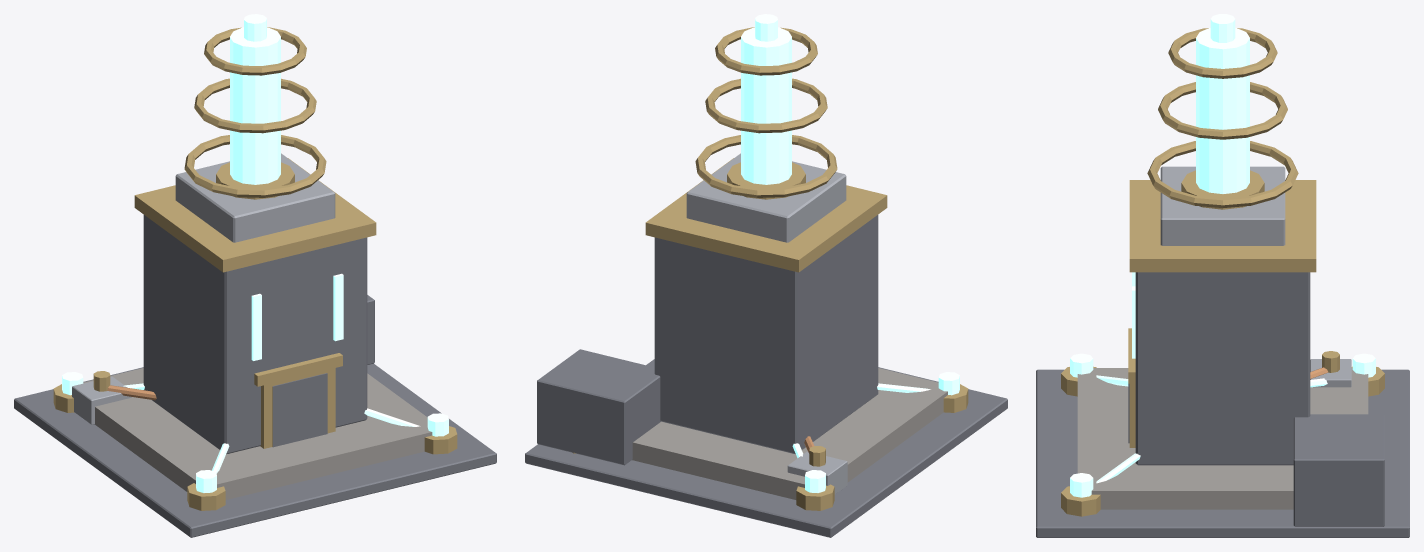
The model's file is gearforge_aether_well.glb.
3 views of the same model, side by side, from view 1: azimuth 30°, elevation 25°; view 2: azimuth 150°, elevation 25°; view 3: azimuth 270°, elevation 25° (orthographic). The views are drawn at different scales.
Parts seen in each view (by area): view 1: gearforge_aether_well_dark_iron_lod0, gearforge_aether_well_brass_lod0, gearforge_aether_well_stone_lod0, gearforge_aether_well_aether_glow_lod0, gearforge_aether_well_steel_lod0; view 2: gearforge_aether_well_dark_iron_lod0, gearforge_aether_well_brass_lod0, gearforge_aether_well_stone_lod0, gearforge_aether_well_aether_glow_lod0, gearforge_aether_well_steel_lod0; view 3: gearforge_aether_well_dark_iron_lod0, gearforge_aether_well_brass_lod0, gearforge_aether_well_stone_lod0, gearforge_aether_well_aether_glow_lod0, gearforge_aether_well_steel_lod0.
Boxes of the visible parts, x1=… form: gearforge_aether_well_dark_iron_lod0: x1=14, y1=215, x2=496, y2=537; gearforge_aether_well_brass_lod0: x1=53, y1=27, x2=457, y2=510; gearforge_aether_well_stone_lod0: x1=83, y1=368, x2=432, y2=499; gearforge_aether_well_aether_glow_lod0: x1=62, y1=14, x2=448, y2=492; gearforge_aether_well_steel_lod0: x1=72, y1=153, x2=335, y2=424; gearforge_aether_well_dark_iron_lod0: x1=525, y1=215, x2=1007, y2=537; gearforge_aether_well_brass_lod0: x1=572, y1=27, x2=968, y2=510; gearforge_aether_well_stone_lod0: x1=632, y1=368, x2=947, y2=499; gearforge_aether_well_aether_glow_lod0: x1=741, y1=14, x2=959, y2=492; gearforge_aether_well_steel_lod0: x1=686, y1=153, x2=847, y2=494; gearforge_aether_well_dark_iron_lod0: x1=1036, y1=272, x2=1409, y2=537; gearforge_aether_well_brass_lod0: x1=1061, y1=28, x2=1384, y2=516; gearforge_aether_well_stone_lod0: x1=1077, y1=368, x2=1368, y2=509; gearforge_aether_well_aether_glow_lod0: x1=1070, y1=14, x2=1375, y2=497; gearforge_aether_well_steel_lod0: x1=1160, y1=166, x2=1351, y2=387.
Size of the model in its own units: 9 by 11.7 by 9.
